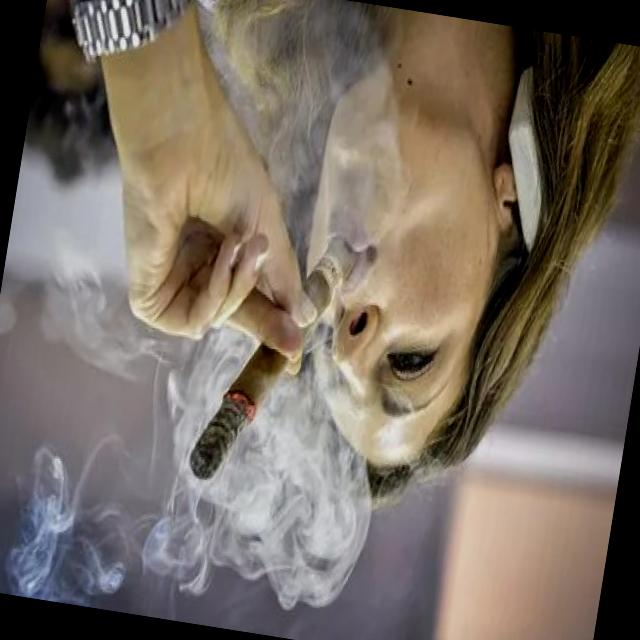smoke: (182, 213, 364, 511)
